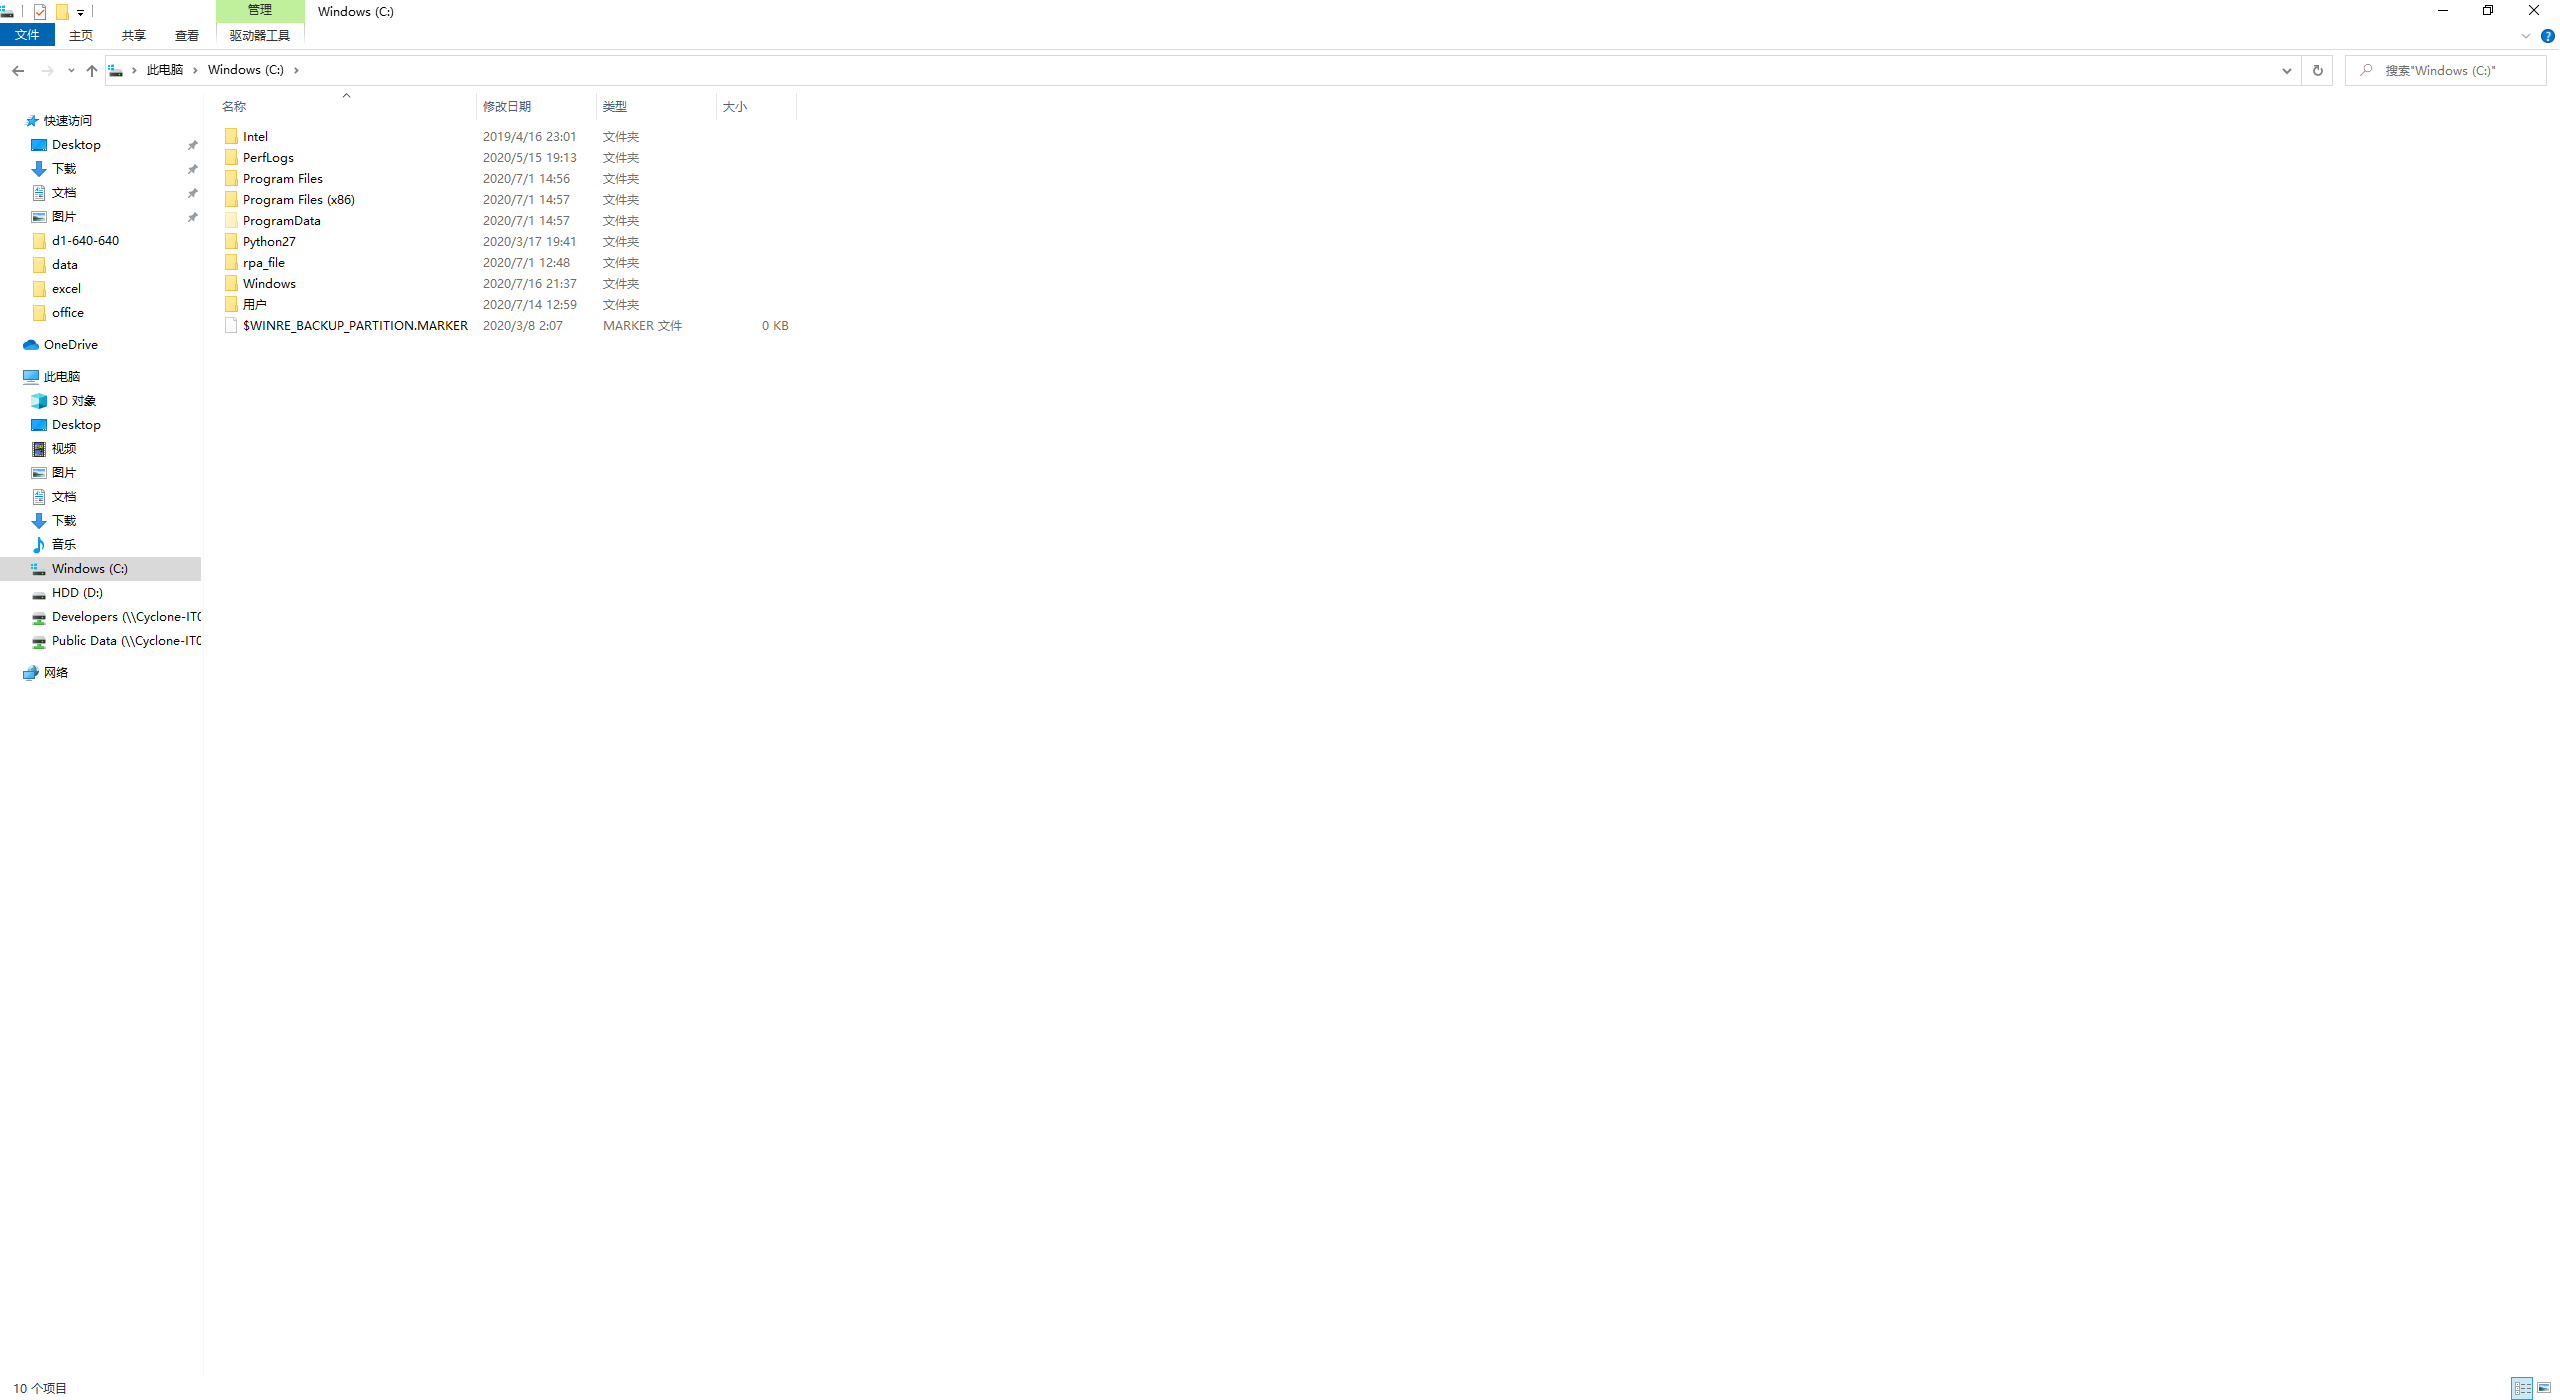character: (243, 317, 471, 334), (2382, 59, 2501, 81), (52, 631, 203, 648), (52, 609, 203, 624), (314, 2, 396, 21), (243, 193, 357, 207), (52, 560, 133, 579), (10, 1376, 76, 1398), (481, 278, 583, 291), (483, 129, 579, 143), (483, 317, 565, 333), (600, 317, 683, 333), (483, 255, 574, 269), (478, 298, 581, 310), (483, 191, 572, 205), (207, 62, 284, 78), (483, 150, 578, 162), (226, 28, 291, 45), (483, 216, 574, 228), (483, 172, 571, 184), (481, 236, 578, 247), (241, 172, 322, 184), (241, 216, 322, 228), (50, 234, 121, 248), (483, 95, 533, 114), (45, 338, 100, 353), (52, 584, 105, 600), (52, 419, 103, 434), (241, 278, 298, 291), (241, 152, 297, 166), (45, 112, 93, 128), (245, 234, 297, 248), (598, 276, 643, 291), (52, 391, 97, 407), (53, 138, 102, 152), (43, 369, 84, 384), (600, 255, 645, 269), (147, 62, 184, 78), (600, 129, 641, 143), (603, 214, 645, 228), (760, 316, 793, 333), (598, 191, 645, 203), (52, 305, 86, 321), (172, 26, 200, 45), (602, 298, 640, 312), (41, 664, 74, 679), (722, 97, 752, 114), (48, 209, 79, 224), (243, 259, 288, 269), (603, 172, 641, 184), (602, 236, 640, 248), (52, 281, 84, 295), (221, 97, 247, 114), (243, 297, 274, 310), (52, 259, 83, 272), (50, 441, 81, 455), (67, 28, 97, 41), (241, 129, 271, 143), (602, 98, 629, 112), (52, 184, 79, 198), (52, 490, 79, 503), (603, 153, 640, 164), (50, 466, 76, 479), (121, 28, 147, 41), (52, 160, 78, 174), (52, 514, 78, 528), (245, 3, 274, 16), (14, 29, 41, 41), (53, 536, 78, 550)
icon: (2508, 1376, 2534, 1400), (2308, 60, 2327, 79), (2517, 24, 2534, 45), (222, 252, 240, 271), (22, 367, 40, 386), (9, 60, 26, 79), (2357, 60, 2376, 78), (29, 391, 47, 409), (29, 231, 47, 248), (29, 303, 47, 321), (222, 148, 240, 166), (222, 316, 240, 333), (222, 210, 240, 228), (222, 169, 240, 186), (53, 3, 71, 21), (83, 62, 100, 79), (29, 279, 47, 297), (222, 190, 240, 207), (22, 110, 40, 128), (29, 488, 47, 505), (29, 512, 47, 529), (29, 136, 47, 152), (222, 233, 240, 248), (31, 160, 47, 178), (29, 209, 47, 224), (222, 274, 240, 290), (31, 184, 47, 202), (31, 255, 47, 272), (40, 62, 55, 79), (222, 128, 240, 143), (107, 64, 124, 79), (2479, 2, 2496, 17), (2526, 2, 2543, 17), (31, 440, 47, 457), (22, 664, 40, 679), (29, 464, 47, 479), (29, 562, 47, 578), (33, 2, 47, 21), (2539, 28, 2555, 43), (224, 295, 238, 312), (22, 336, 40, 350), (29, 417, 47, 431), (31, 536, 45, 553), (64, 64, 79, 78), (186, 64, 202, 78), (288, 62, 302, 78), (126, 64, 141, 78), (2279, 64, 2295, 78), (2434, 3, 2450, 17), (31, 634, 47, 648), (31, 610, 47, 624), (31, 588, 47, 602), (2536, 1379, 2551, 1393), (72, 5, 86, 19), (186, 160, 198, 176), (186, 136, 198, 152), (186, 209, 198, 222), (186, 184, 198, 198), (340, 90, 353, 102), (2, 3, 14, 17), (17, 3, 28, 19)
